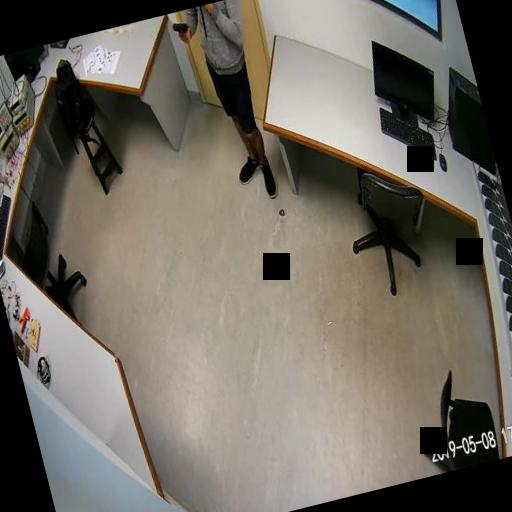Handgun: (170, 19, 191, 45)
